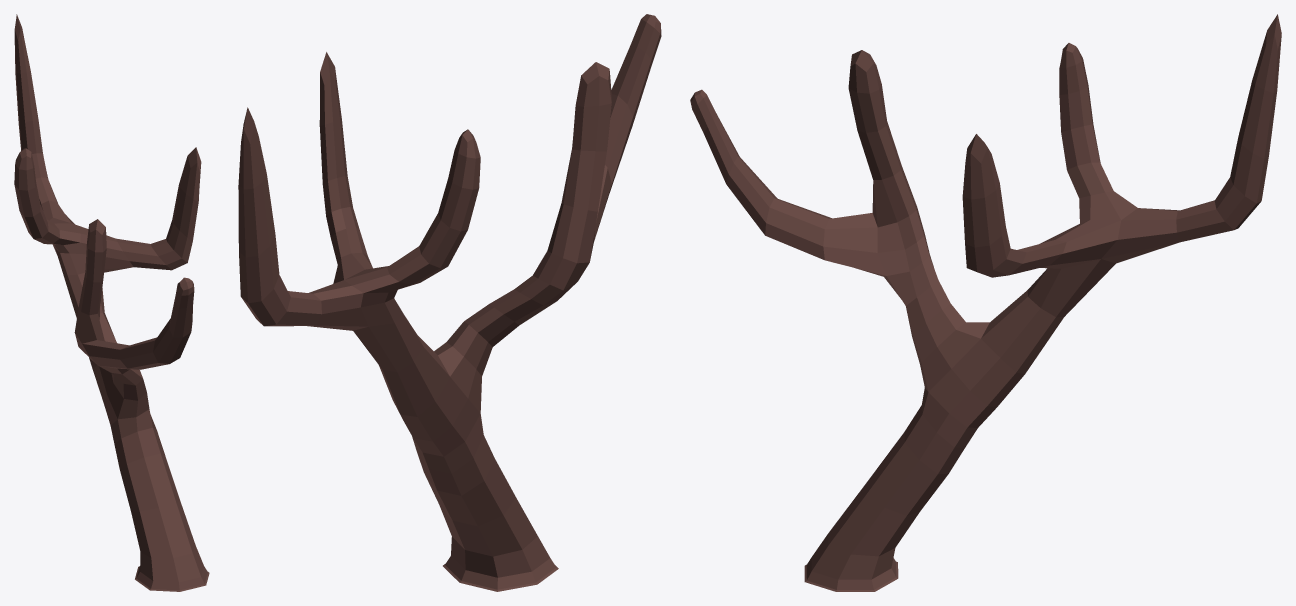
Rendered from willow_dead4.glb.
3 renders of one model, left to right at view 1: azimuth 30°, elevation 25°; view 2: azimuth 150°, elevation 25°; view 3: azimuth 270°, elevation 25°, orthographic. The views are drawn at different scales.
Parts seen in each view (by area): view 1: Willow_Dead_4; view 2: Willow_Dead_4; view 3: Willow_Dead_4.
Boxes of the visible parts, x1,y1,x2,y2 form: Willow_Dead_4: (14, 14, 209, 591); Willow_Dead_4: (238, 14, 661, 591); Willow_Dead_4: (690, 14, 1281, 591).
Size of the model in its own units: 1.01 by 2.72 by 2.59.
